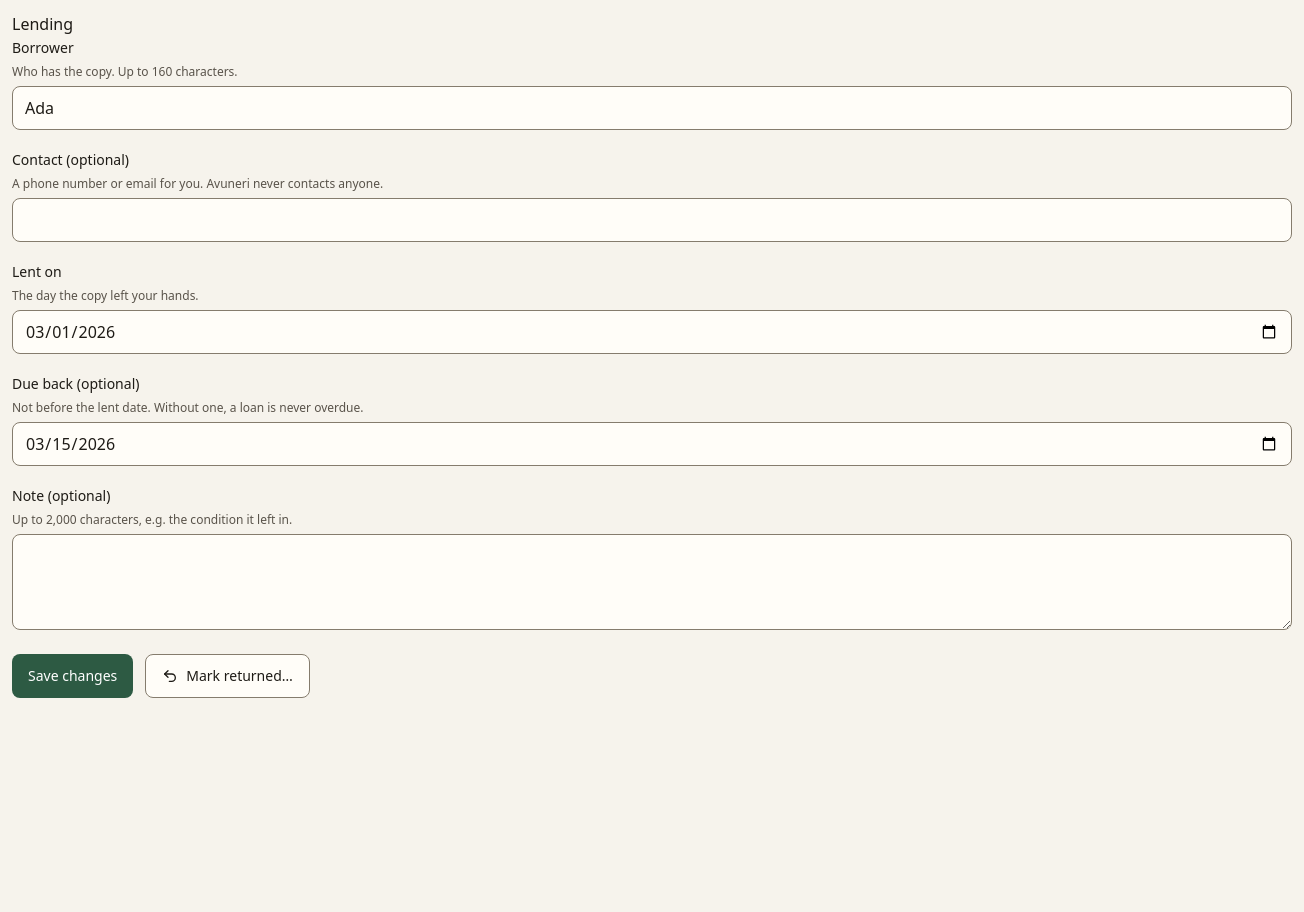
Scenario: LoanEditor › sends no PATCH when nothing changed
Click the button "Save changes": click(73, 676) [12,654,133,698]
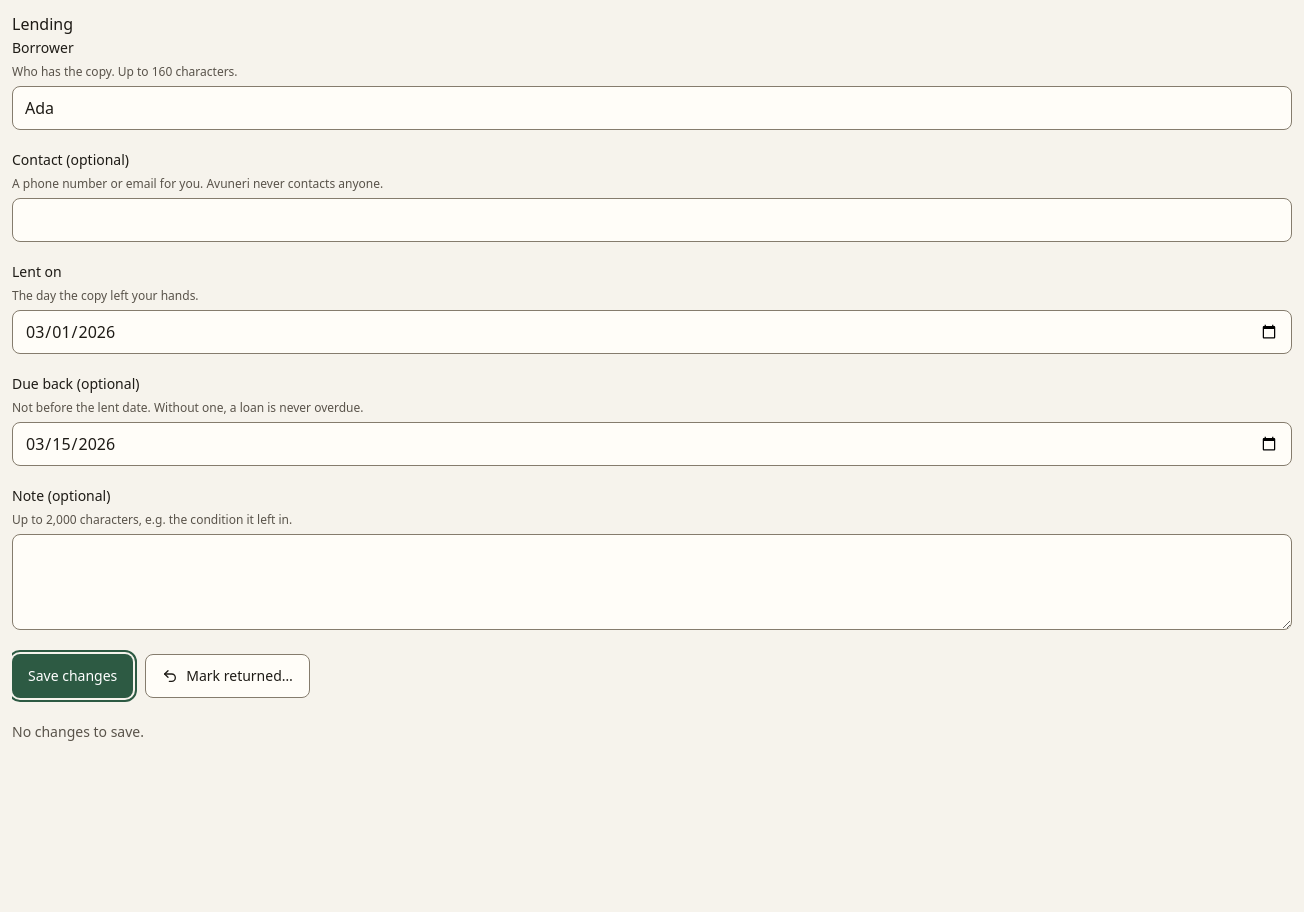
Now the text "No changes to save." is shown, box [12,722,144,741]
